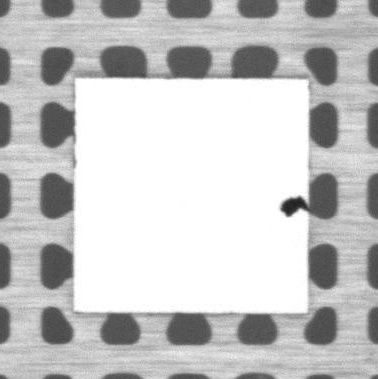DIE_INK: (280, 195, 307, 219)
